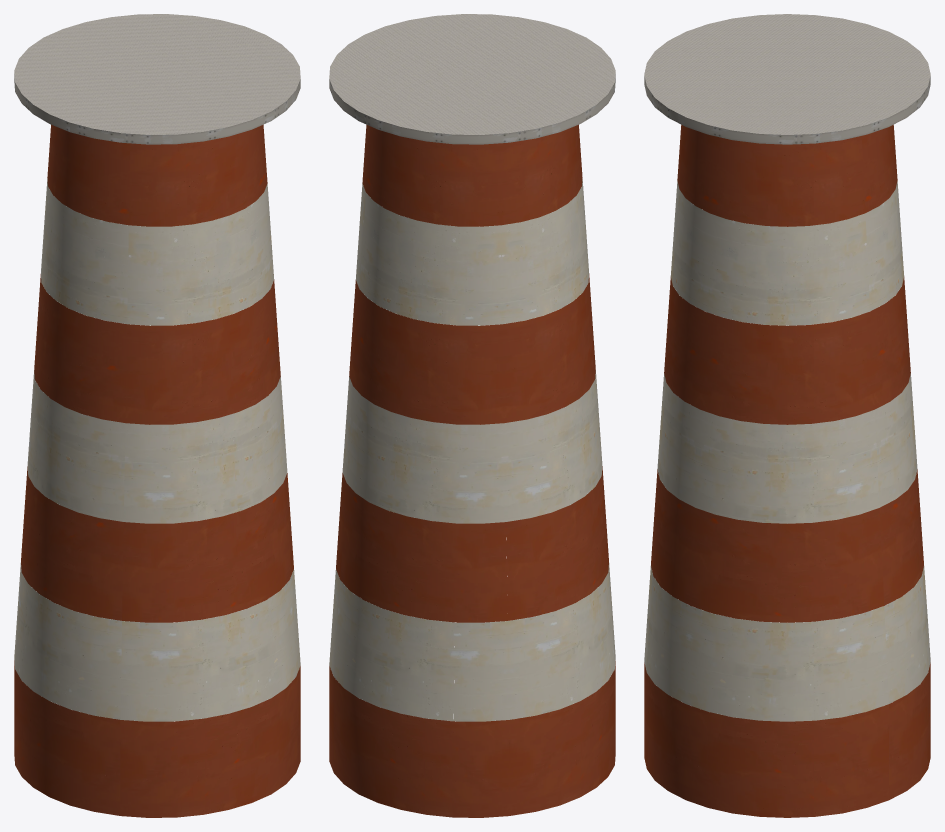
3 renders of one model, left to right at view 1: azimuth 30°, elevation 25°; view 2: azimuth 150°, elevation 25°; view 3: azimuth 270°, elevation 25°, orthographic.
Parts seen in each view (by area): view 1: body0_model0_lod0_mesh1, body0_model0_lod0_mesh4, body0_model0_lod0_mesh2, body0_model0_lod0_mesh3; view 2: body0_model0_lod0_mesh1, body0_model0_lod0_mesh4, body0_model0_lod0_mesh2, body0_model0_lod0_mesh3; view 3: body0_model0_lod0_mesh1, body0_model0_lod0_mesh4, body0_model0_lod0_mesh2, body0_model0_lod0_mesh3.
Part boxes in pixels (x1=…): body0_model0_lod0_mesh1: x1=14, y1=124, x2=300, y2=817; body0_model0_lod0_mesh4: x1=14, y1=178, x2=300, y2=721; body0_model0_lod0_mesh2: x1=14, y1=14, x2=300, y2=134; body0_model0_lod0_mesh3: x1=14, y1=74, x2=300, y2=144; body0_model0_lod0_mesh1: x1=329, y1=124, x2=615, y2=817; body0_model0_lod0_mesh4: x1=329, y1=178, x2=615, y2=721; body0_model0_lod0_mesh2: x1=329, y1=14, x2=615, y2=134; body0_model0_lod0_mesh3: x1=329, y1=74, x2=615, y2=144; body0_model0_lod0_mesh1: x1=644, y1=125, x2=930, y2=817; body0_model0_lod0_mesh4: x1=644, y1=181, x2=930, y2=721; body0_model0_lod0_mesh2: x1=644, y1=14, x2=930, y2=134; body0_model0_lod0_mesh3: x1=644, y1=76, x2=930, y2=144.
Bounding box in the file's own units: 432 × 1136 × 432.
Materials: 5 (5 with a texture image).
